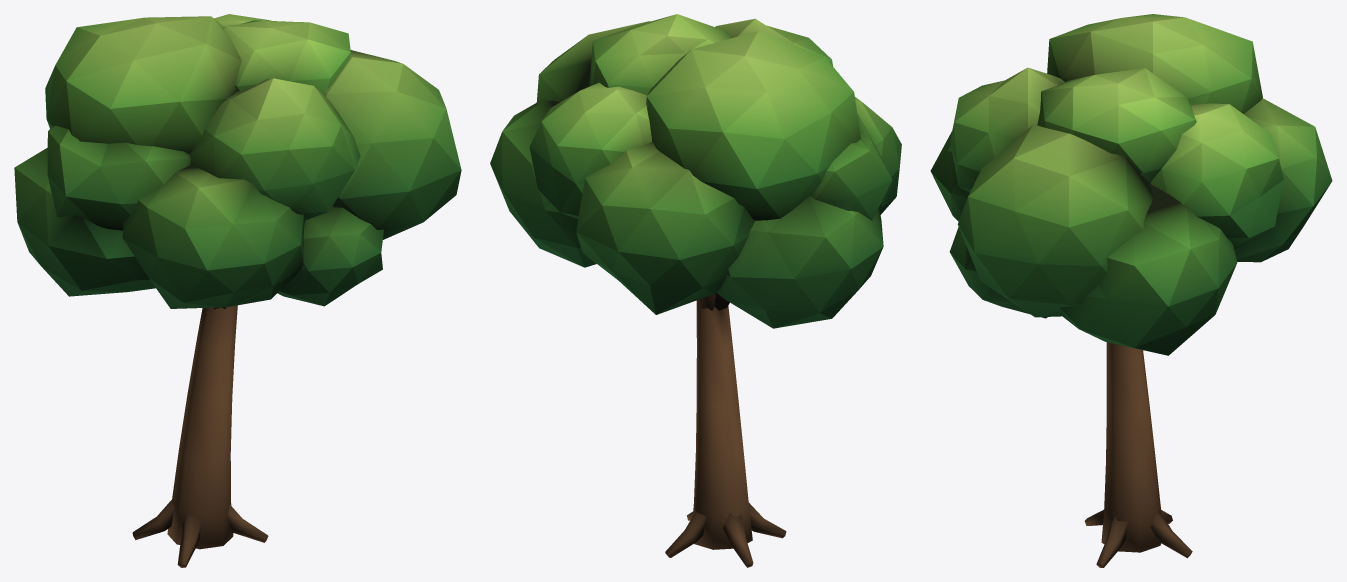
The model's file is tree-standing-a.glb.
3 views of the same model, side by side, from view 1: azimuth 30°, elevation 25°; view 2: azimuth 150°, elevation 25°; view 3: azimuth 270°, elevation 25° (orthographic). The views are drawn at different scales.
Parts seen in each view (by area): view 1: 1_leaves, 0_trunk; view 2: 1_leaves, 0_trunk; view 3: 1_leaves, 0_trunk.
Boxes of the visible parts, bbox=[...] form: 1_leaves: bbox=[14, 14, 461, 308]; 0_trunk: bbox=[132, 305, 268, 567]; 1_leaves: bbox=[490, 14, 901, 328]; 0_trunk: bbox=[665, 292, 786, 567]; 1_leaves: bbox=[930, 14, 1332, 355]; 0_trunk: bbox=[1084, 342, 1192, 567].
Bounding box in the file's own units: 4.79 × 6.25 × 4.48.
